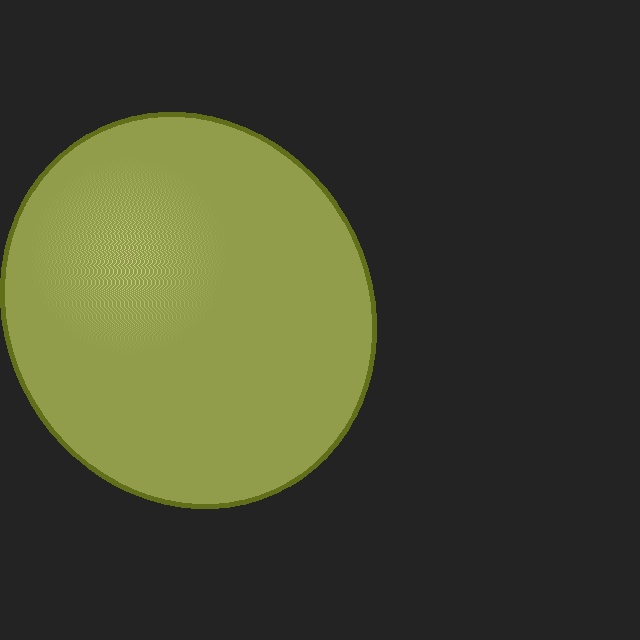lens: (2, 114, 374, 506)
